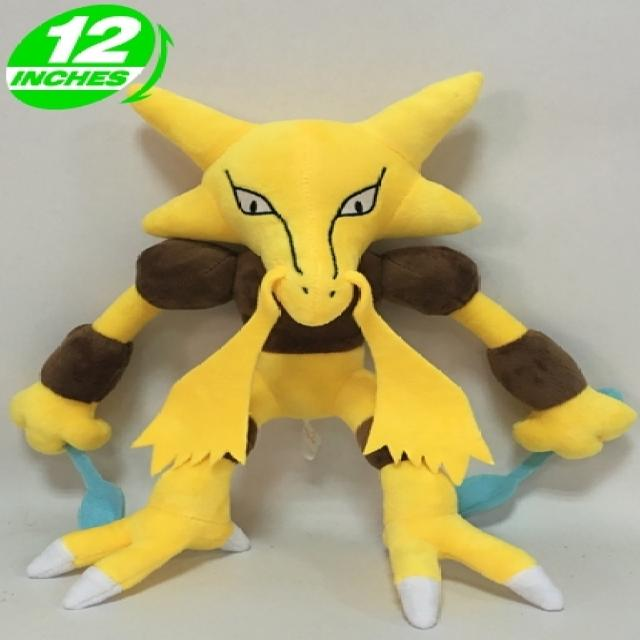Alakazam: (115, 93, 477, 414)
